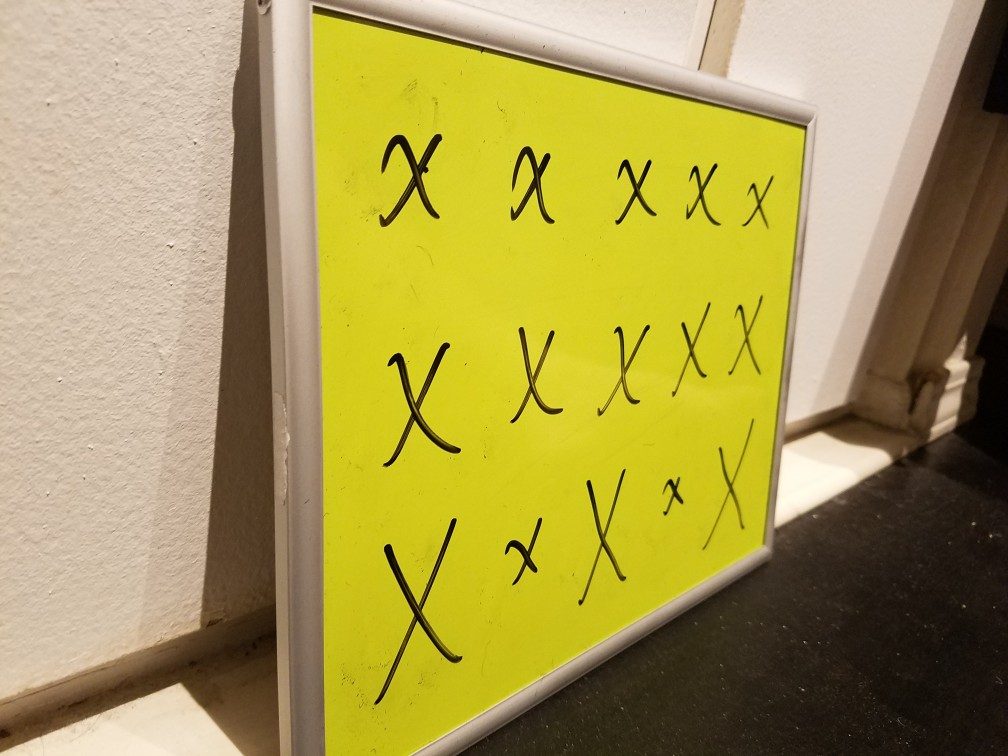x: (356, 507, 476, 700), (376, 324, 471, 475), (574, 451, 646, 617), (491, 303, 577, 441), (362, 116, 451, 242), (501, 133, 587, 253), (701, 411, 766, 560), (585, 301, 653, 428), (657, 285, 726, 406), (591, 128, 660, 242), (489, 505, 556, 595), (673, 150, 722, 238), (727, 289, 768, 387), (727, 164, 779, 241), (656, 462, 692, 526)
